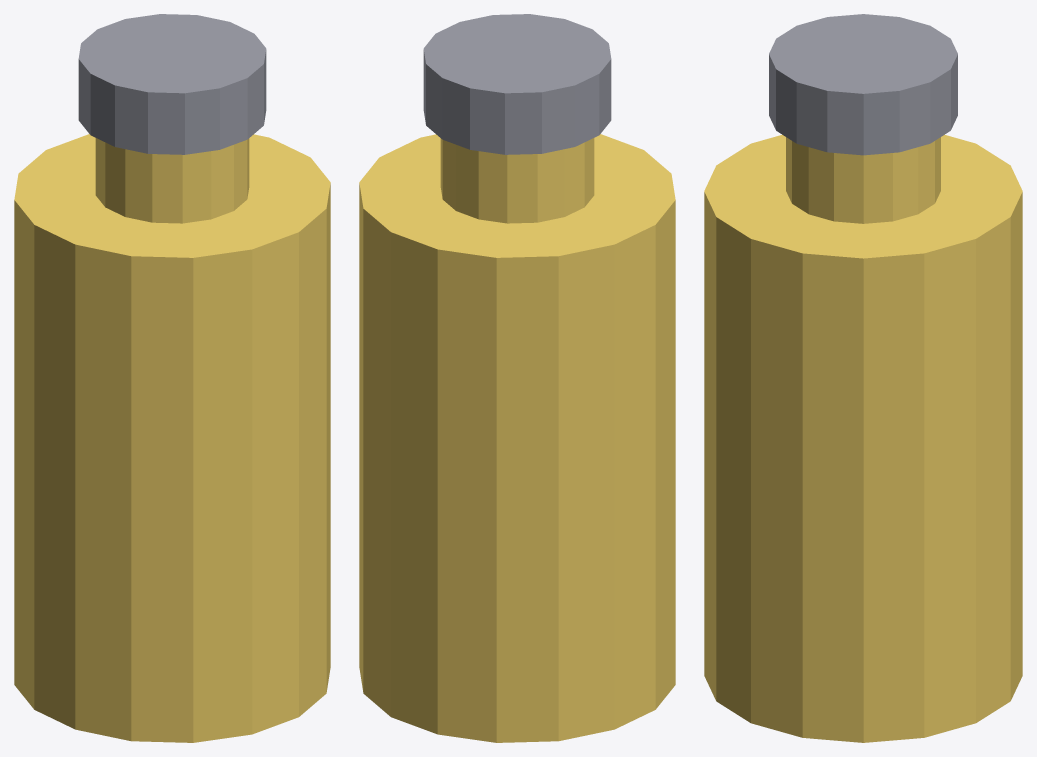
File: tiem-cuon-chi.glb
3 renders of one model, left to right at view 1: azimuth 30°, elevation 25°; view 2: azimuth 150°, elevation 25°; view 3: azimuth 270°, elevation 25°, orthographic.
Visible parts, largest first — view 1: tiem-cuon-chi; view 2: tiem-cuon-chi; view 3: tiem-cuon-chi.
Part boxes in pixels (x1,y1,x2,y2): tiem-cuon-chi: [14, 14, 330, 742]; tiem-cuon-chi: [359, 14, 675, 742]; tiem-cuon-chi: [704, 14, 1022, 742].
Bounding box in the file's own units: 0.6843 × 1.47 × 0.6843.
